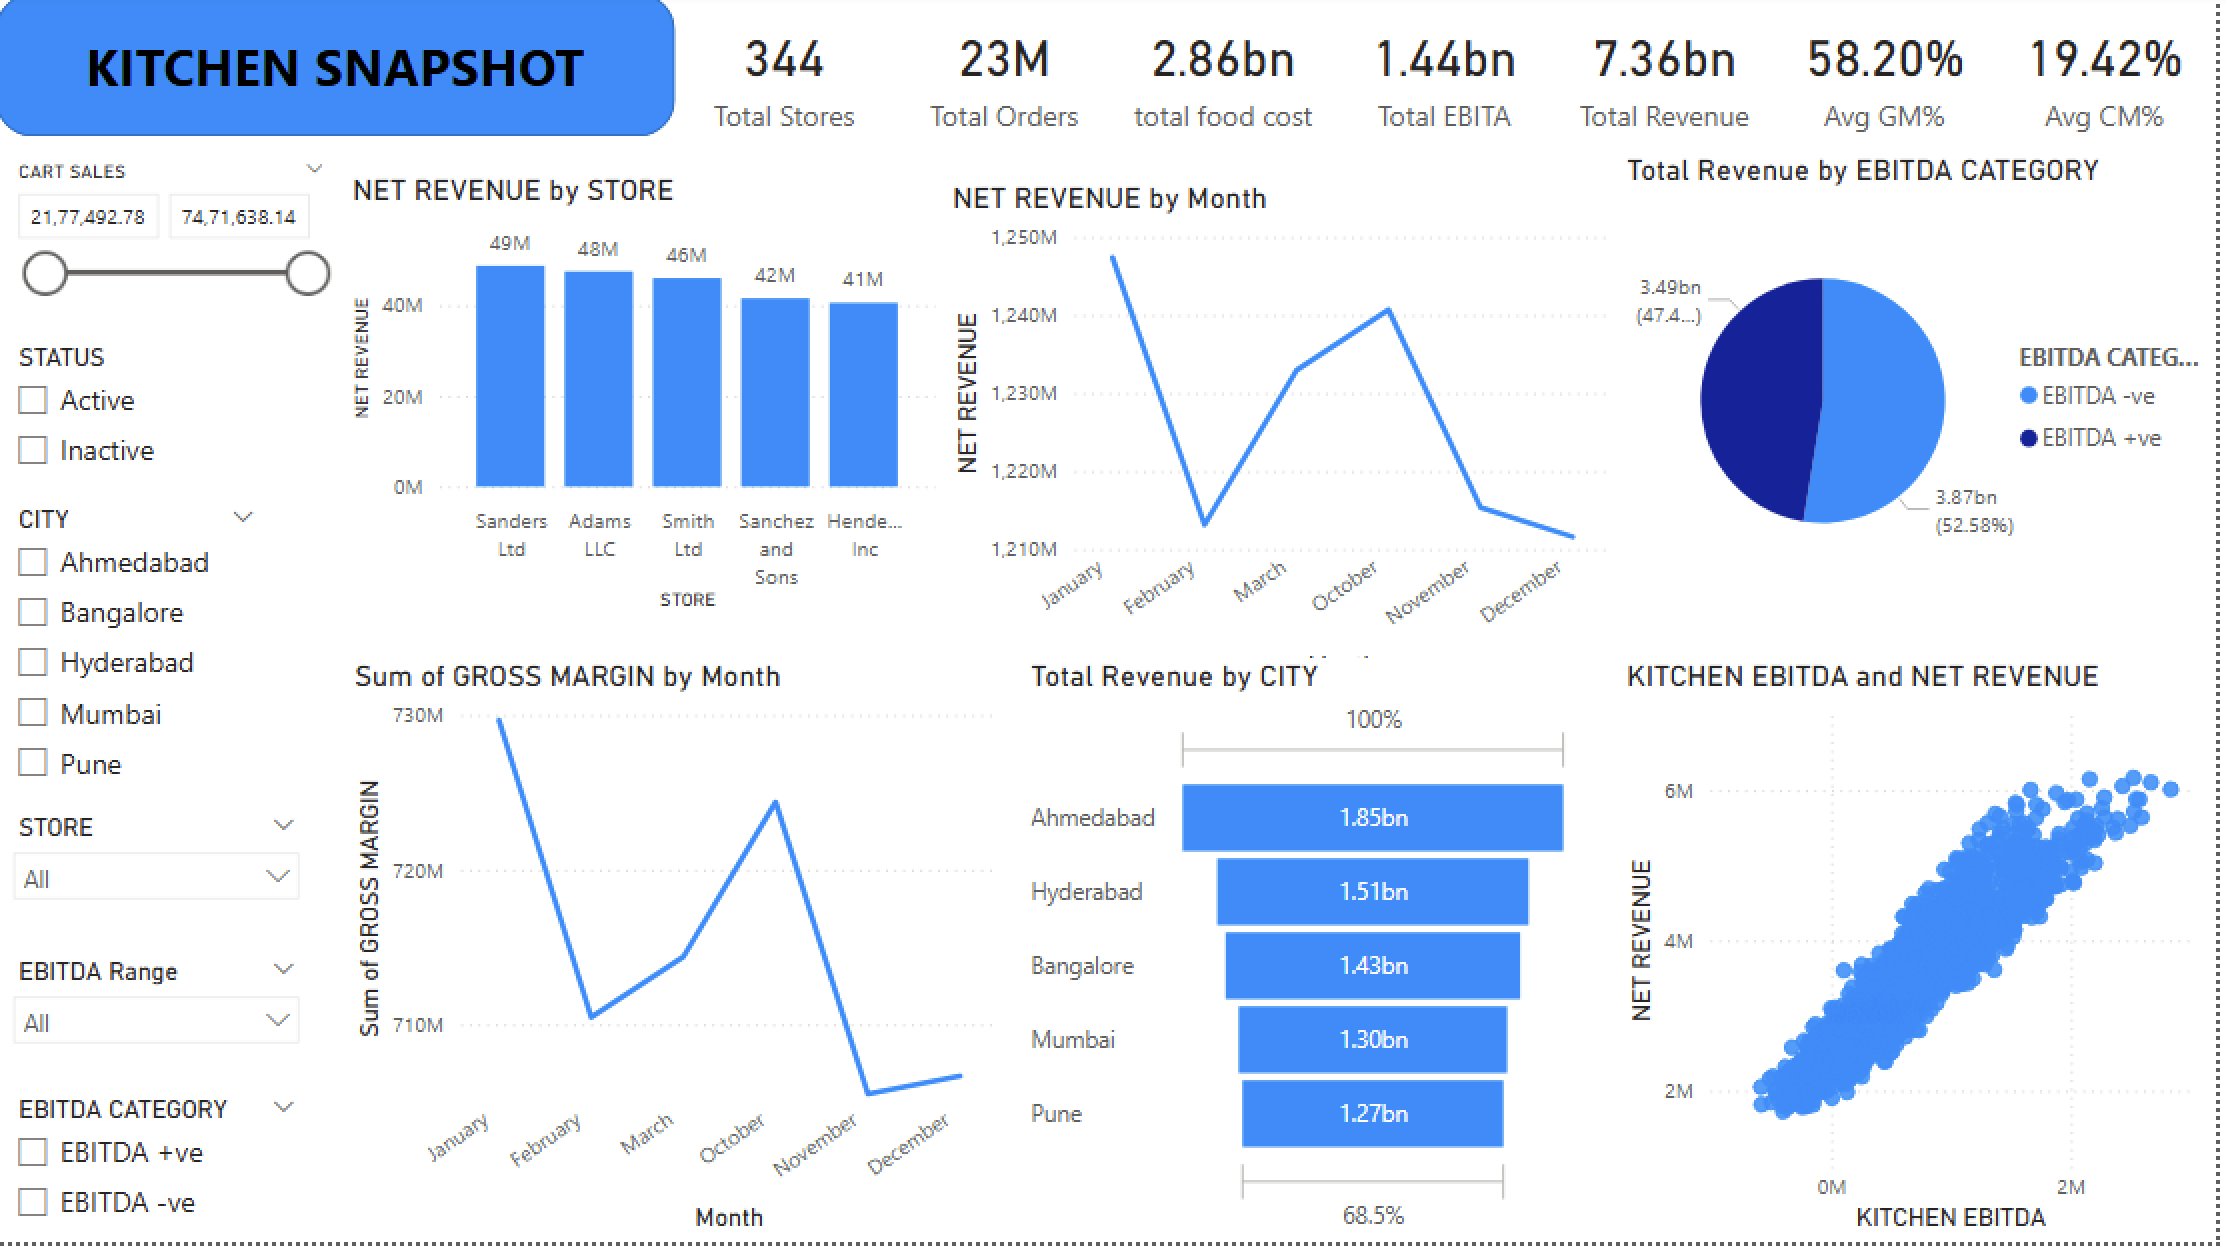

The dashboard page shown, as its layout file describes it:
{"tool":"powerbi","page":{"name":"KITCHEN Level PNL","canvas":[1280,720],"ordinal":0},"visuals":[{"type":"card","fields":{"Values":["Stores.Total Orders"]},"box":[518.4,0,127.1,91.3],"z":0},{"type":"card","fields":{"Values":["Stores.Avg CM%"]},"box":[1152.9,0,127.1,91.3],"z":1000},{"type":"card","fields":{"Values":["Stores.Avg GM%"]},"box":[1025.7,0,127.1,91.3],"z":2000},{"type":"card","fields":{"Values":["Stores.Total Revenue"]},"box":[898.6,0,127.1,91.3],"z":3000},{"type":"card","fields":{"Values":["Stores.Total EBITA"]},"box":[771.5,0,127.1,91.3],"z":4000},{"type":"card","fields":{"Values":["Stores.Total Stores"]},"box":[391.3,0,127.1,91.3],"z":5000},{"type":"card","fields":{"Values":["Sum(Stores.IDEAL FOOD COST)"]},"box":[645.6,0,125.9,91.3],"z":6000},{"type":"slicer","fields":{"Values":["Stores.CART SALES"]},"box":[0,91.3,201.2,104.9],"z":7000},{"type":"slicer","fields":{"Values":["Stores.STATUS"]},"box":[0,196.3,185.1,93.8],"z":8000},{"type":"slicer","fields":{"Values":["Stores.CITY"]},"box":[0,290.1,161.7,186.4],"z":9000},{"type":"slicer","fields":{"Values":["Stores.STORE"]},"box":[0,467.5,185,73.8],"z":10000},{"type":"slicer","fields":{"Values":["Stores.EBITDA CATEGORY"]},"box":[0,630,185,90],"z":11000},{"type":"slicer","fields":{"Values":["Stores.EBITDA Range"]},"box":[0,550,185,80],"z":12000},{"type":"columnChart","fields":{"Category":["Stores.STORE"],"Y":["Sum(Stores.NET REVENUE)"]},"box":[201.2,102.5,346.2,257.5],"z":13000},{"type":"lineChart","fields":{"Category":["Stores.MONTH.Variation.Date Hierarchy.Month"],"Y":["Sum(Stores.NET REVENUE)"]},"box":[547.2,106.9,388.9,293.1],"z":14000},{"type":"lineChart","fields":{"Category":["Stores.MONTH.Variation.Date Hierarchy.Month"],"Y":["Sum(Stores.GROSS MARGIN)"]},"box":[201.4,383.3,380.6,336.1],"z":15000},{"type":"pieChart","fields":{"Category":["Stores.EBITDA CATEGORY"],"Y":["Stores.Total Revenue"]},"box":[936.1,91.7,344.4,268.1],"z":16000},{"type":"funnel","fields":{"Category":["Stores.CITY"],"Y":["Stores.Total Revenue"]},"box":[591.7,383.3,322.2,336.1],"z":17000},{"type":"scatterChart","fields":{"X":["Stores.KITCHEN EBITDA"],"Y":["Stores.NET REVENUE"]},"box":[936.1,383.3,344.4,336.1],"z":18000},{"type":"shape","box":[0,0,391.7,81.9],"z":19000}]}

Visuals, with their boxes in screenshot pixels (x1, y1, x2, y2), scaled from the page's 1280x720 canvas onto the 2226x1248 screenshot:
card - Stores.Total Orders: Rect(902, 0, 1123, 158)
card - Stores.Avg CM%: Rect(2005, 0, 2225, 158)
card - Stores.Avg GM%: Rect(1784, 0, 2005, 158)
card - Stores.Total Revenue: Rect(1563, 0, 1784, 158)
card - Stores.Total EBITA: Rect(1342, 0, 1563, 158)
card - Stores.Total Stores: Rect(680, 0, 902, 158)
card - Sum(Stores.IDEAL FOOD COST): Rect(1123, 0, 1342, 158)
slicer - Stores.CART SALES: Rect(0, 158, 350, 340)
slicer - Stores.STATUS: Rect(0, 340, 322, 503)
slicer - Stores.CITY: Rect(0, 503, 281, 826)
slicer - Stores.STORE: Rect(0, 810, 322, 938)
slicer - Stores.EBITDA CATEGORY: Rect(0, 1092, 322, 1247)
slicer - Stores.EBITDA Range: Rect(0, 953, 322, 1092)
columnChart - Stores.STORE x Sum(Stores.NET REVENUE): Rect(350, 178, 952, 624)
lineChart - Stores.MONTH.Variation.Date Hierarchy.Month x Sum(Stores.NET REVENUE): Rect(952, 185, 1628, 693)
lineChart - Stores.MONTH.Variation.Date Hierarchy.Month x Sum(Stores.GROSS MARGIN): Rect(350, 664, 1012, 1247)
pieChart - Stores.EBITDA CATEGORY x Stores.Total Revenue: Rect(1628, 159, 2225, 624)
funnel - Stores.CITY x Stores.Total Revenue: Rect(1029, 664, 1589, 1247)
scatterChart - Stores.KITCHEN EBITDA x Stores.NET REVENUE: Rect(1628, 664, 2225, 1247)
shape: Rect(0, 0, 681, 142)
